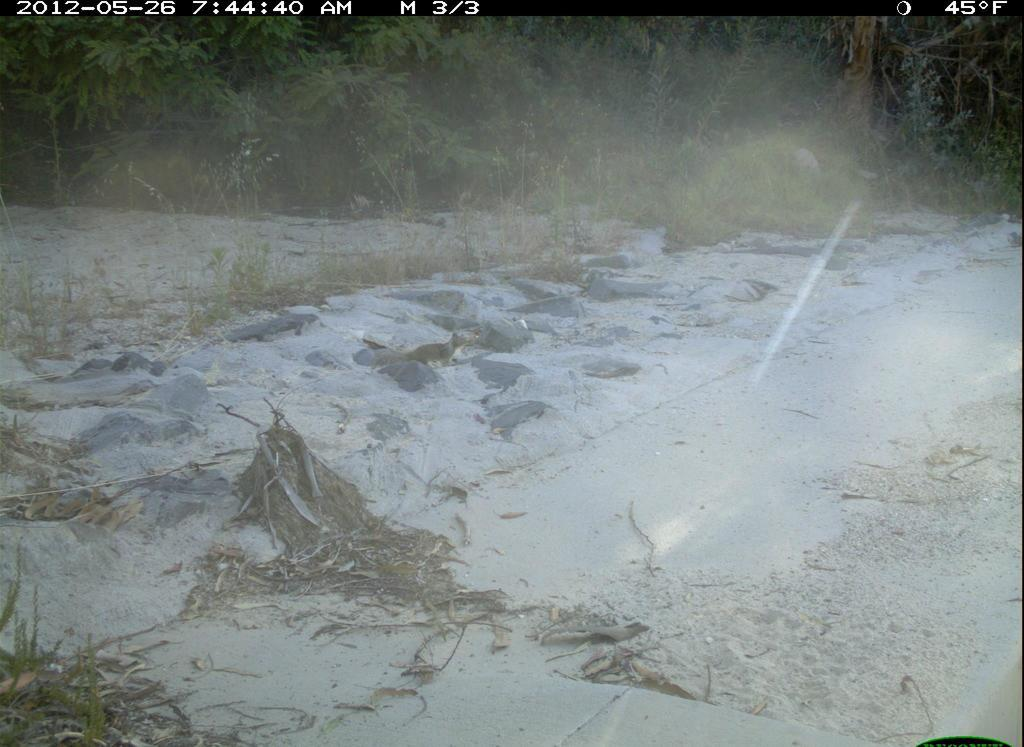squirrel: (371, 330, 473, 372)
